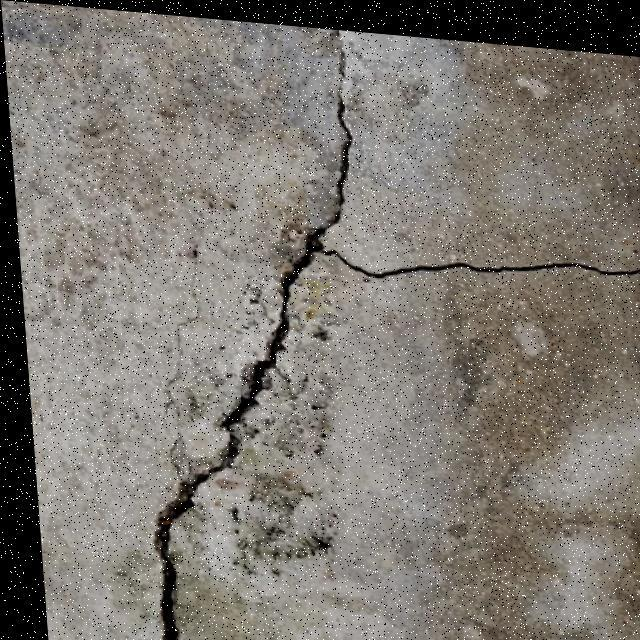branched cracks: (221, 48, 639, 434), (156, 437, 239, 639)
